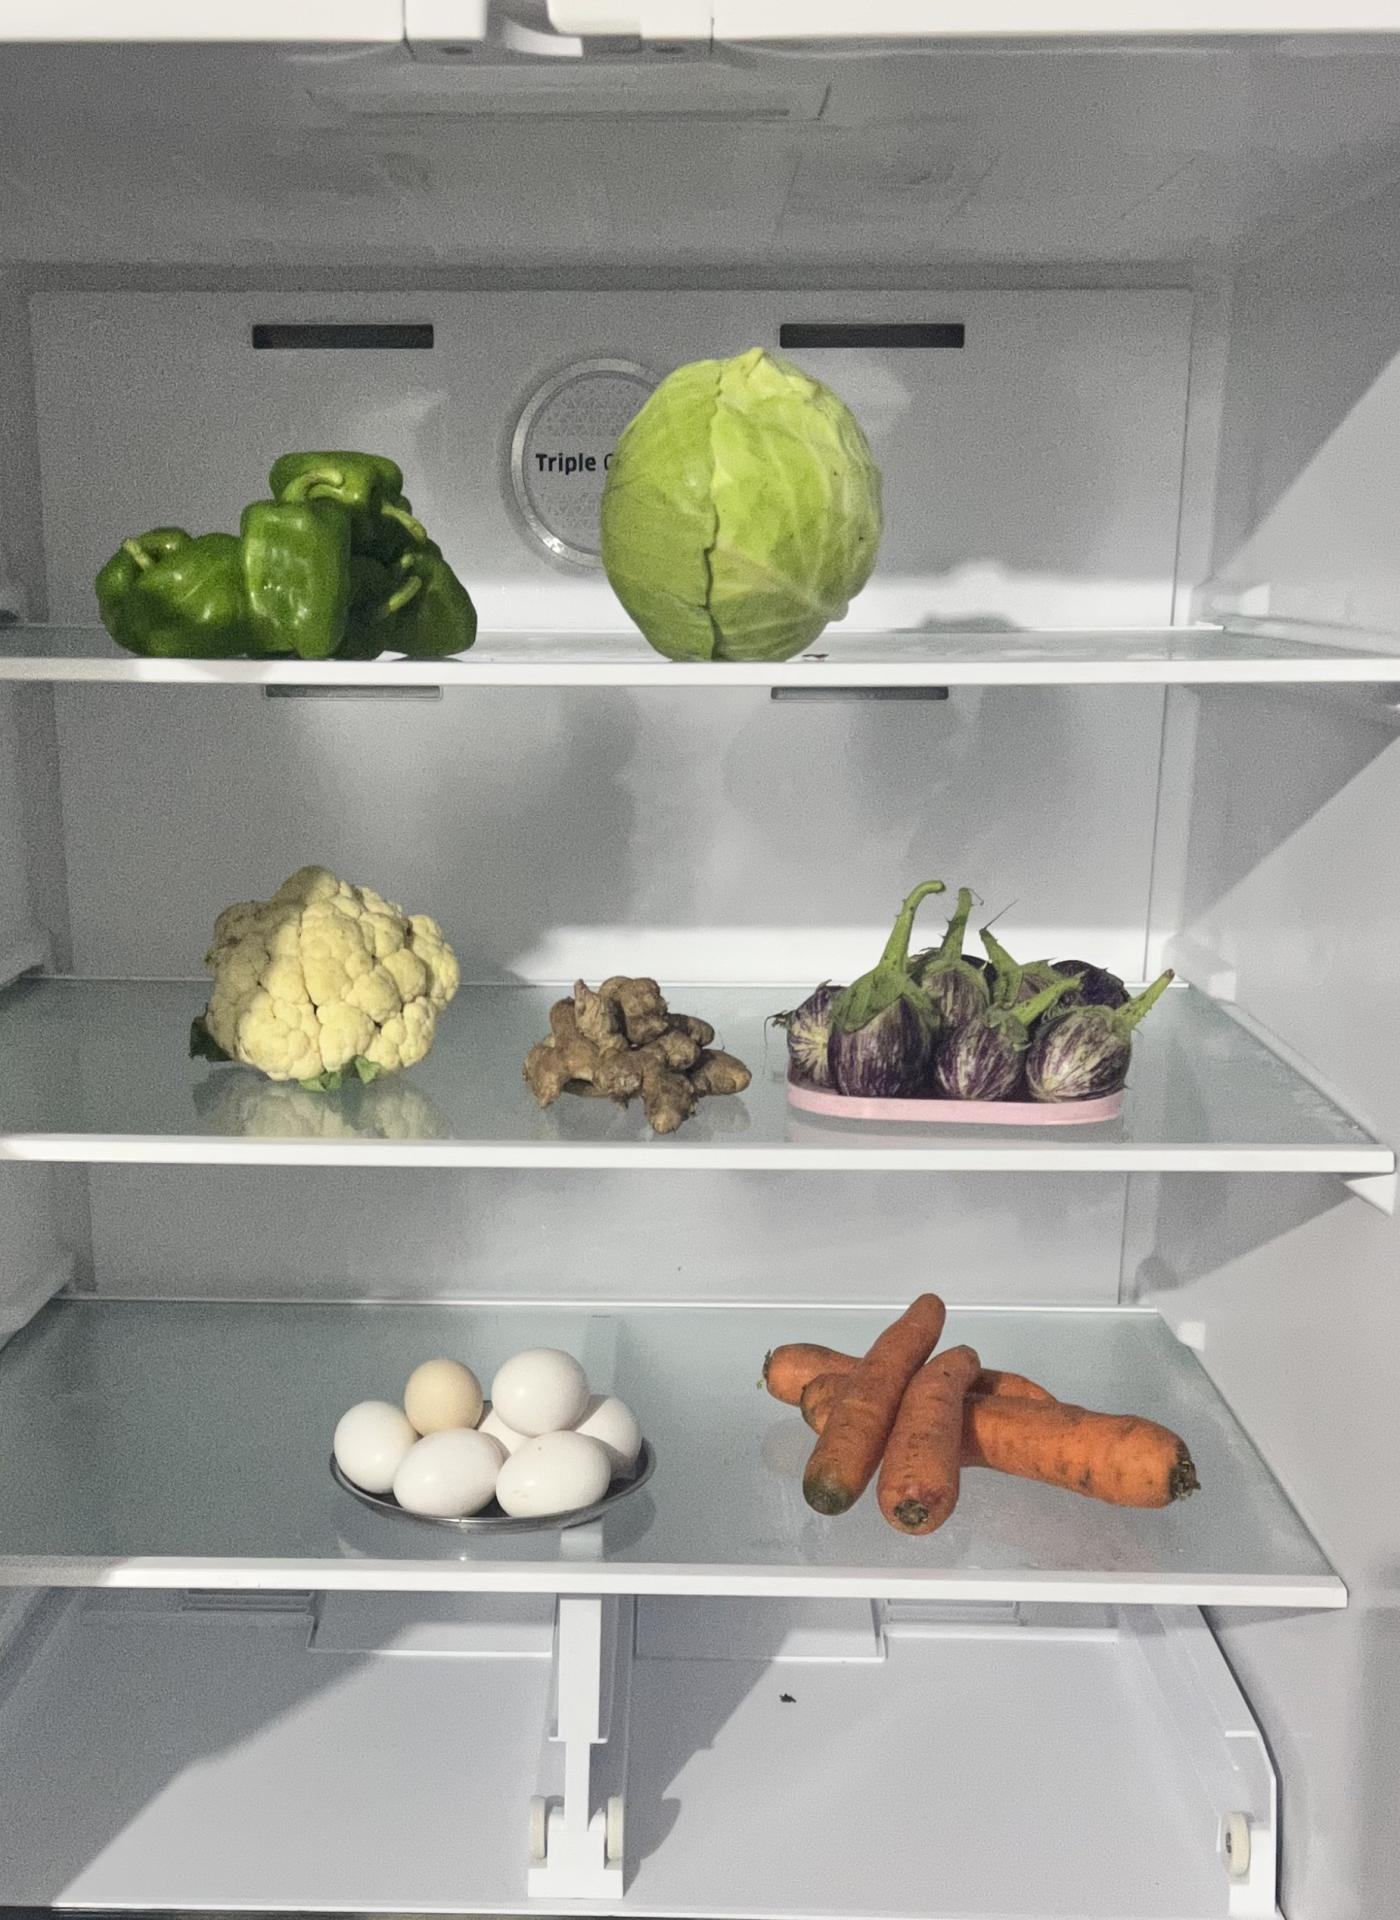brinjal: (777, 930, 1130, 1090)
cabbage: (605, 355, 892, 668)
capsicum: (95, 441, 479, 651)
carrots: (765, 1306, 1193, 1534)
cauliflower: (201, 877, 459, 1087)
egg: (332, 1345, 652, 1518)
ginger: (523, 973, 748, 1130)
